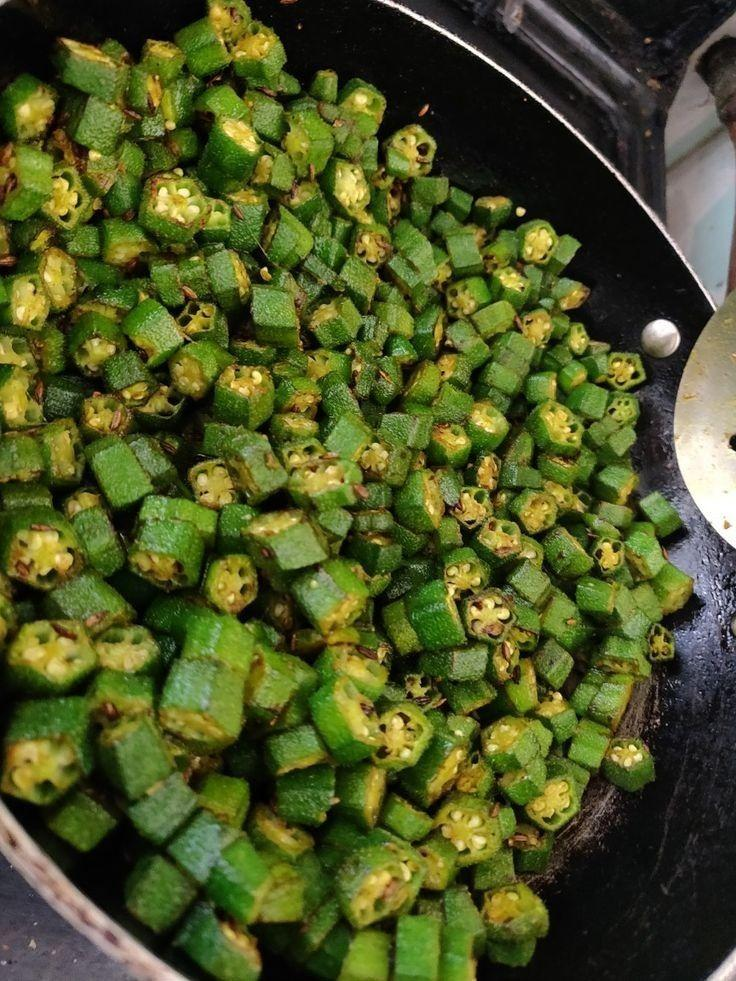bhindi: (3, 56, 506, 849)
